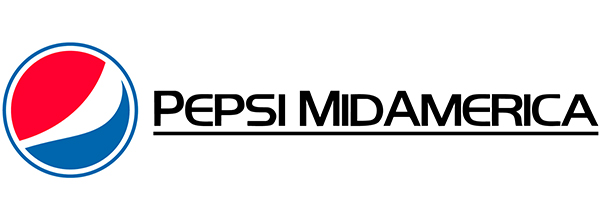pepsi: (4, 44, 134, 174), (5, 44, 134, 174)
